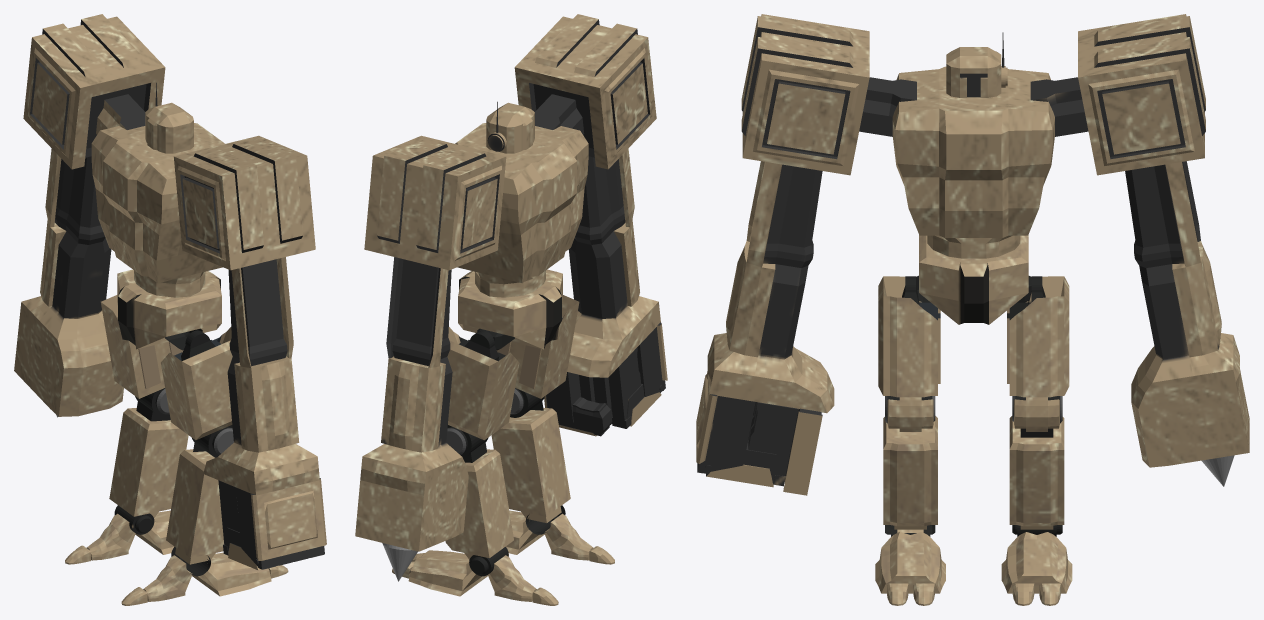
The model's file is mecha.fbx.
3 renders of one model, left to right at view 1: azimuth 30°, elevation 25°; view 2: azimuth 150°, elevation 25°; view 3: azimuth 270°, elevation 25°, orthographic. The views are drawn at different scales.
Visible parts, largest first — view 1: 좌완, 우완, 상체, 손, 좌 종아리, 우 허벅지, 골반, 우 종아리, 좌 허벅지, 머리, 우 발 전방, 우 발 후방 (+9 smaller); view 2: 좌완, 우완, 상체, 우 종아리, 좌 허벅지, 골반, 좌 종아리, 우 허벅지, 좌 발 전방, 머리, 손, 소지2 (+13 smaller); view 3: 좌완, 우완, 상체, 골반, 좌 허벅지, 우 허벅지, 우 종아리, 좌 종아리, 손, 좌 발 전방, 우 발 전방, 머리 (+6 smaller).
Part boxes in pixels (box(x1,y1,x2,y2)): 좌완: box(14, 14, 165, 416); 우완: box(173, 135, 319, 495); 상체: box(91, 123, 224, 283); 손: box(236, 478, 326, 569); 좌 종아리: box(109, 408, 188, 516); 우 허벅지: box(161, 327, 232, 440); 골반: box(117, 269, 221, 349); 우 종아리: box(166, 449, 223, 558); 좌 허벅지: box(100, 295, 183, 398); 머리: box(145, 102, 193, 153); 우 발 전방: box(192, 552, 271, 596); 우 발 후방: box(143, 555, 192, 601); 좌완: box(355, 135, 506, 551); 우완: box(514, 14, 660, 377); 상체: box(455, 123, 588, 283); 우 종아리: box(491, 408, 570, 516); 좌 허벅지: box(447, 327, 519, 440); 골반: box(458, 269, 562, 349); 좌 종아리: box(445, 449, 513, 558); 우 허벅지: box(496, 295, 579, 398); 좌 발 전방: box(408, 550, 487, 596); 머리: box(486, 102, 534, 153); 손: box(637, 322, 667, 396); 소지2: box(608, 347, 641, 428); 좌완: box(1030, 14, 1249, 467); 우완: box(707, 14, 916, 413); 상체: box(892, 66, 1054, 237); 골반: box(919, 235, 1028, 324); 좌 허벅지: box(1007, 276, 1069, 397); 우 허벅지: box(878, 276, 940, 397); 우 종아리: box(883, 416, 937, 526); 좌 종아리: box(1009, 416, 1064, 526); 손: box(696, 371, 755, 473); 좌 발 전방: box(1001, 532, 1072, 593); 우 발 전방: box(875, 532, 945, 593); 머리: box(946, 47, 1001, 97).
Size of the model in its own units: 938 by 2659 by 2522.
